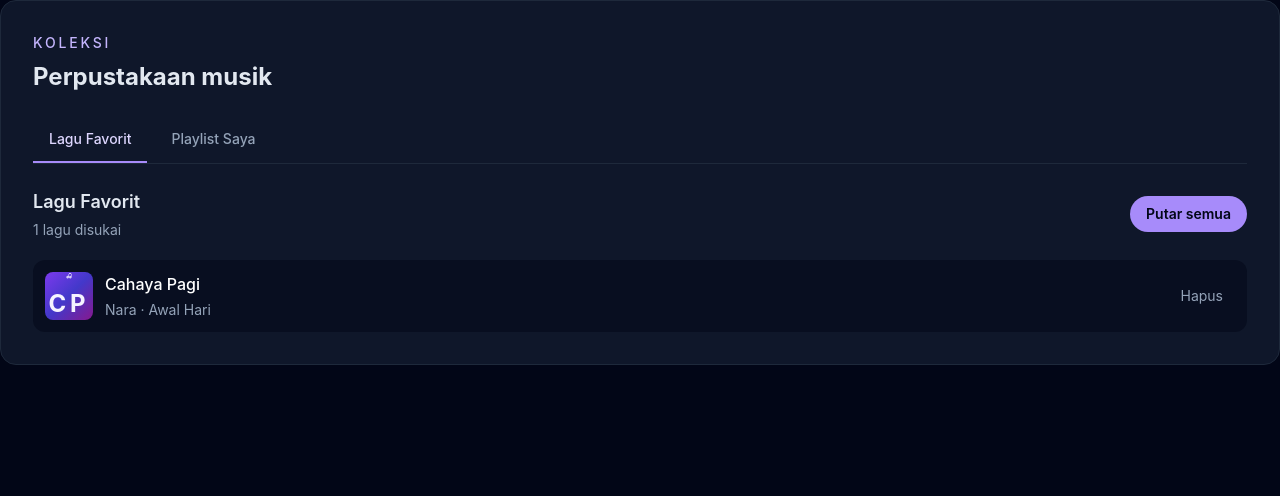
Library › deletes the selected playlist after confirmation
Click the tab "Playlist Saya" at point(213, 140), box top-left (155, 117), bottom-right (272, 163)
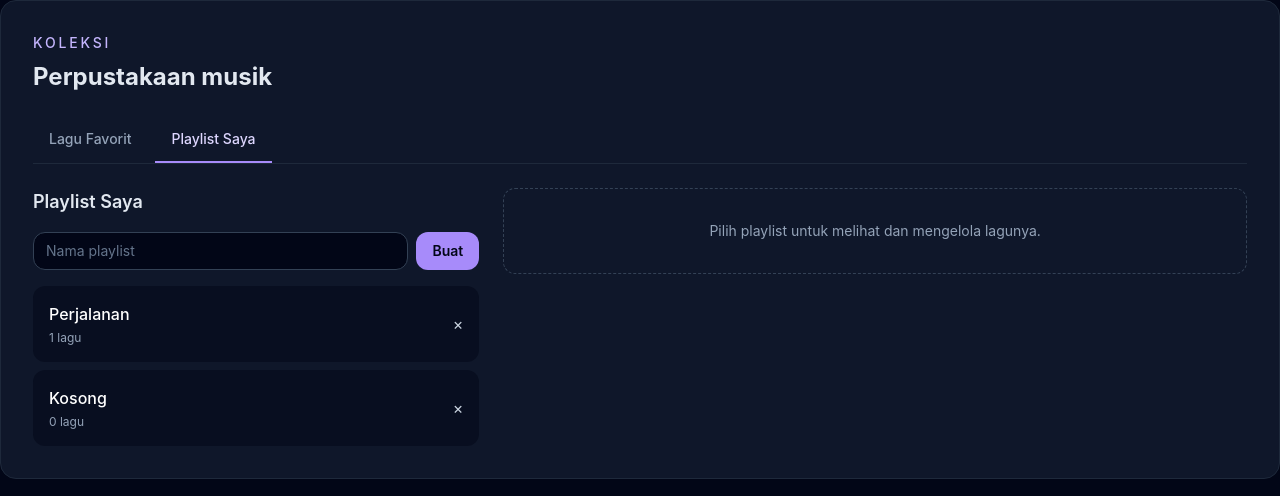
Click the button named "Kosong0 lagu" at point(78, 398), box top-left (41, 378), bottom-right (437, 438)
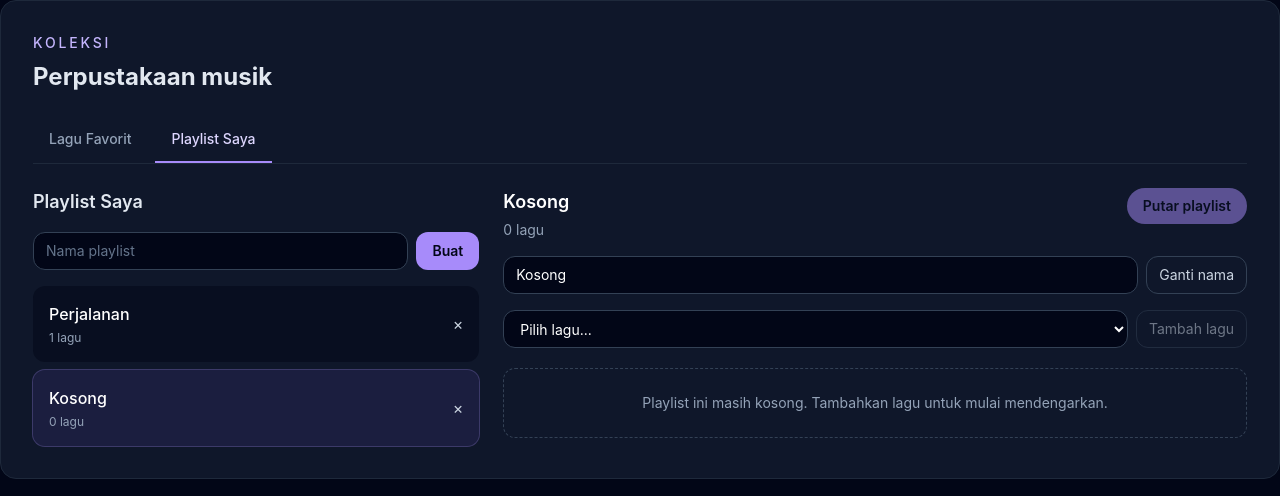
Click the button named "Hapus playlist Kosong" at point(458, 408), box top-left (445, 388), bottom-right (471, 428)
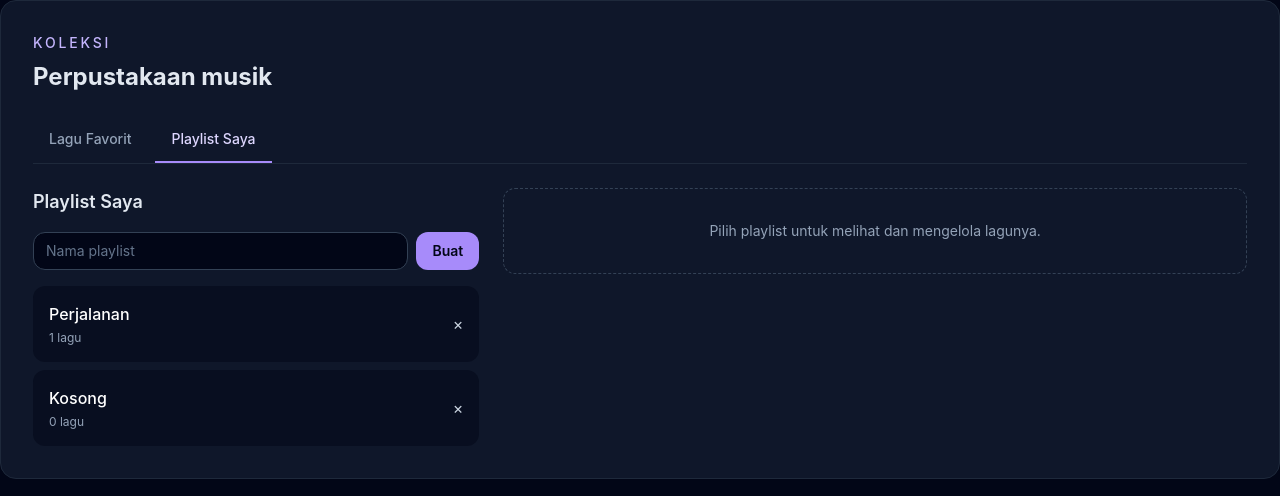
Check: the text "Pilih playlist untuk melihat dan mengelola lagunya." is shown, box top-left (503, 188), bottom-right (1247, 274)
